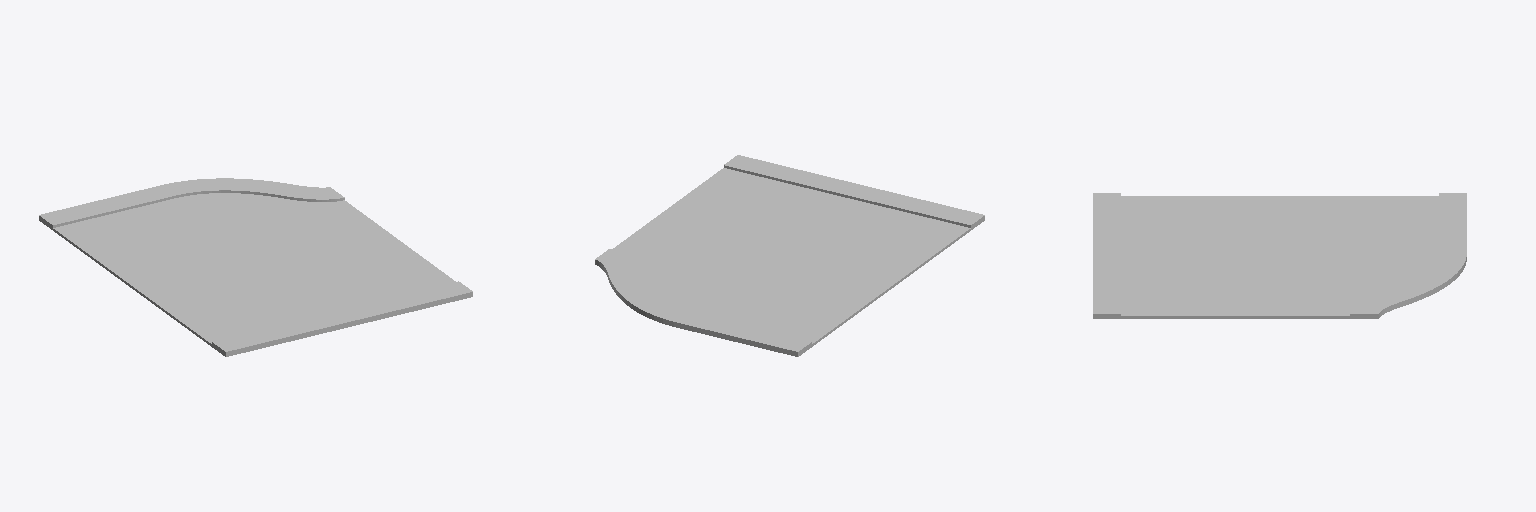
File: road_sideEntry.obj
The picture shows the model from 3 angles: view 1: azimuth 30°, elevation 25°; view 2: azimuth 150°, elevation 25°; view 3: azimuth 270°, elevation 25°; orthographic projection.
Parts seen in each view (by area): view 1: road_sideEntry; view 2: road_sideEntry; view 3: road_sideEntry.
Boxes of the visible parts, <box> form: road_sideEntry: <box>39,178,472,356</box>; road_sideEntry: <box>595,155,984,356</box>; road_sideEntry: <box>1093,193,1466,318</box>.
Bounding box in the file's own units: 1 × 0.02 × 1.31.